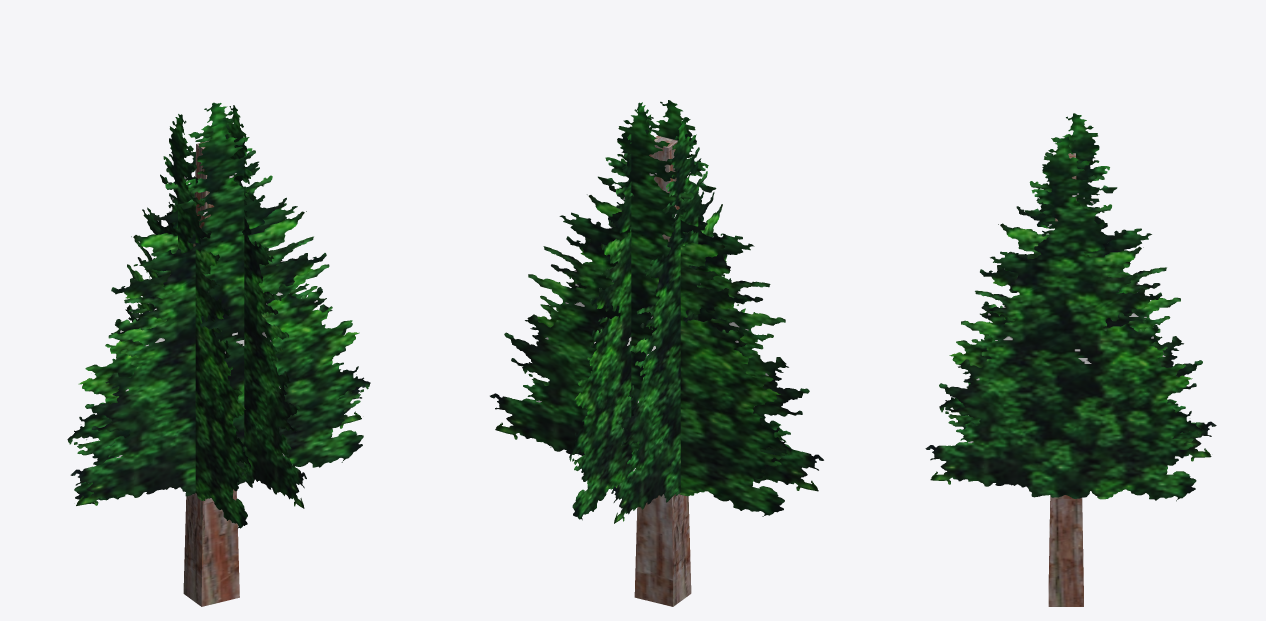
File: sugi.fbx
3 renders of one model, left to right at view 1: azimuth 30°, elevation 25°; view 2: azimuth 150°, elevation 25°; view 3: azimuth 270°, elevation 25°, orthographic. The views are drawn at different scales.
Parts seen in each view (by area): view 1: pasted__pPlane5, pasted__pPlane3, pasted__pPlane4, pasted__pPlane2, pCube57; view 2: pasted__pPlane2, pasted__pPlane3, pasted__pPlane4, pasted__pPlane5, pCube57; view 3: pasted__pPlane4, pasted__pPlane3, pCube57.
Part boxes in pixels (x1=…): pasted__pPlane5: x1=70, y1=117, x2=370, y2=505; pasted__pPlane3: x1=116, y1=114, x2=250, y2=528; pasted__pPlane4: x1=226, y1=105, x2=306, y2=508; pasted__pPlane2: x1=67, y1=102, x2=365, y2=504; pCube57: x1=183, y1=141, x2=239, y2=606; pasted__pPlane2: x1=490, y1=111, x2=791, y2=516; pasted__pPlane3: x1=611, y1=117, x2=745, y2=523; pasted__pPlane4: x1=569, y1=102, x2=651, y2=520; pasted__pPlane5: x1=522, y1=100, x2=823, y2=491; pCube57: x1=634, y1=135, x2=691, y2=606; pasted__pPlane4: x1=925, y1=136, x2=1202, y2=501; pasted__pPlane3: x1=939, y1=113, x2=1216, y2=461; pCube57: x1=1048, y1=153, x2=1083, y2=606.
Size of the model in its own units: 8.65 by 10.68 by 7.09.
1 material, 1 textured.
